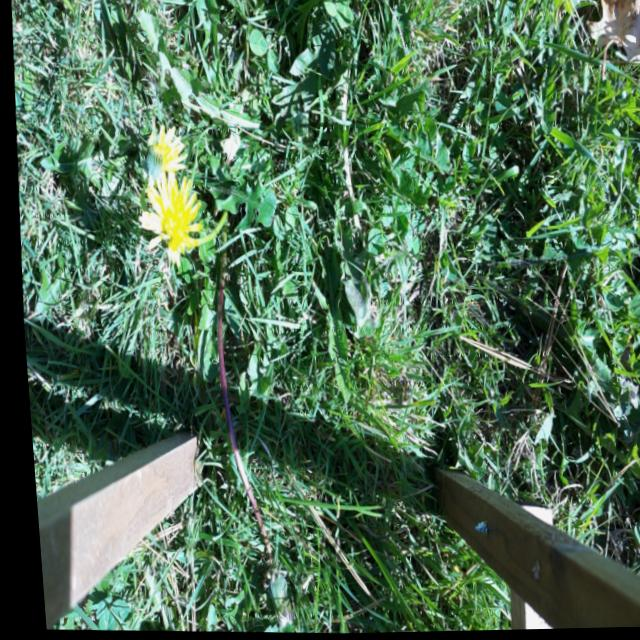base: (204, 216, 234, 254), (210, 199, 232, 232)
